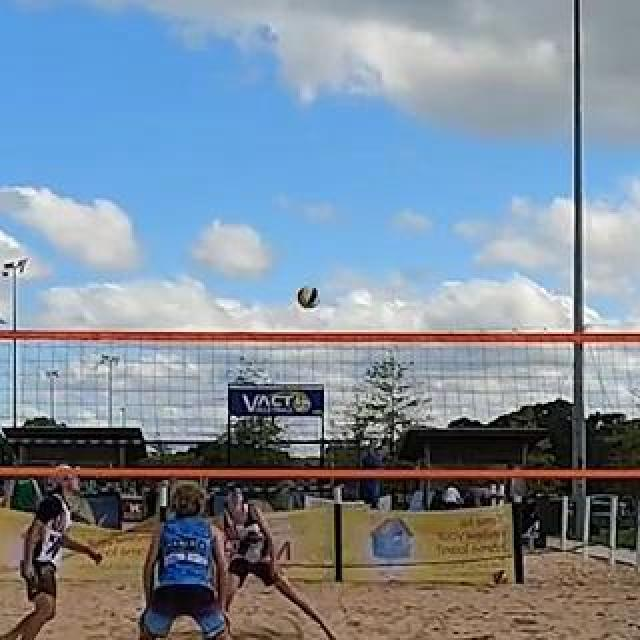volleyball: (296, 288, 318, 310), (492, 570, 510, 586)
